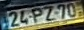0: (66, 2, 77, 18)
2: (7, 10, 20, 28)
4: (19, 9, 29, 26)
7: (56, 3, 66, 20)
P: (30, 7, 42, 25)
Z: (42, 5, 57, 22)
